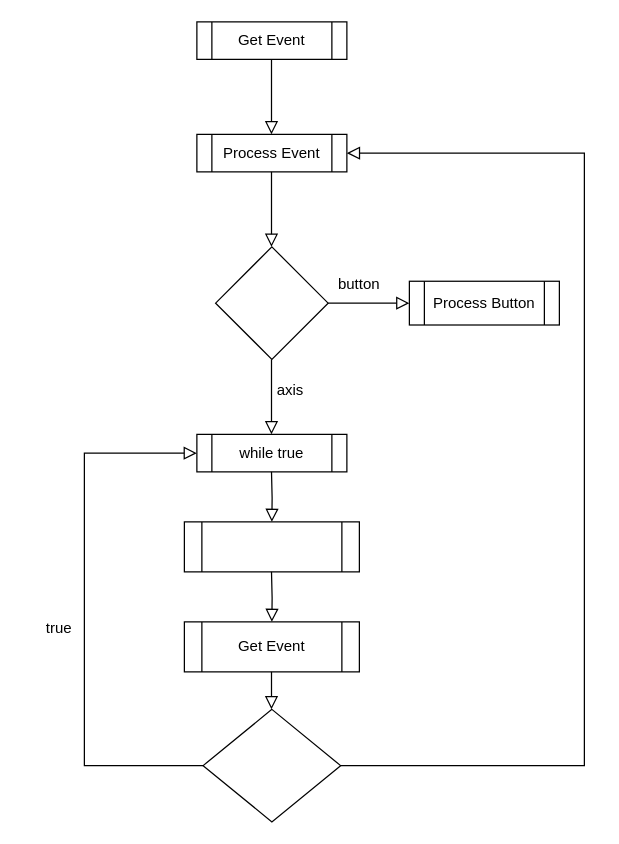
This 619x844 diagram has some shape labels left out. Each missing label, with the box of its shape:
axis/button: (214, 246, 328, 359)
if new_event == initial_event: (202, 708, 341, 822)
mouse.MoveMouse(): (183, 521, 359, 572)
